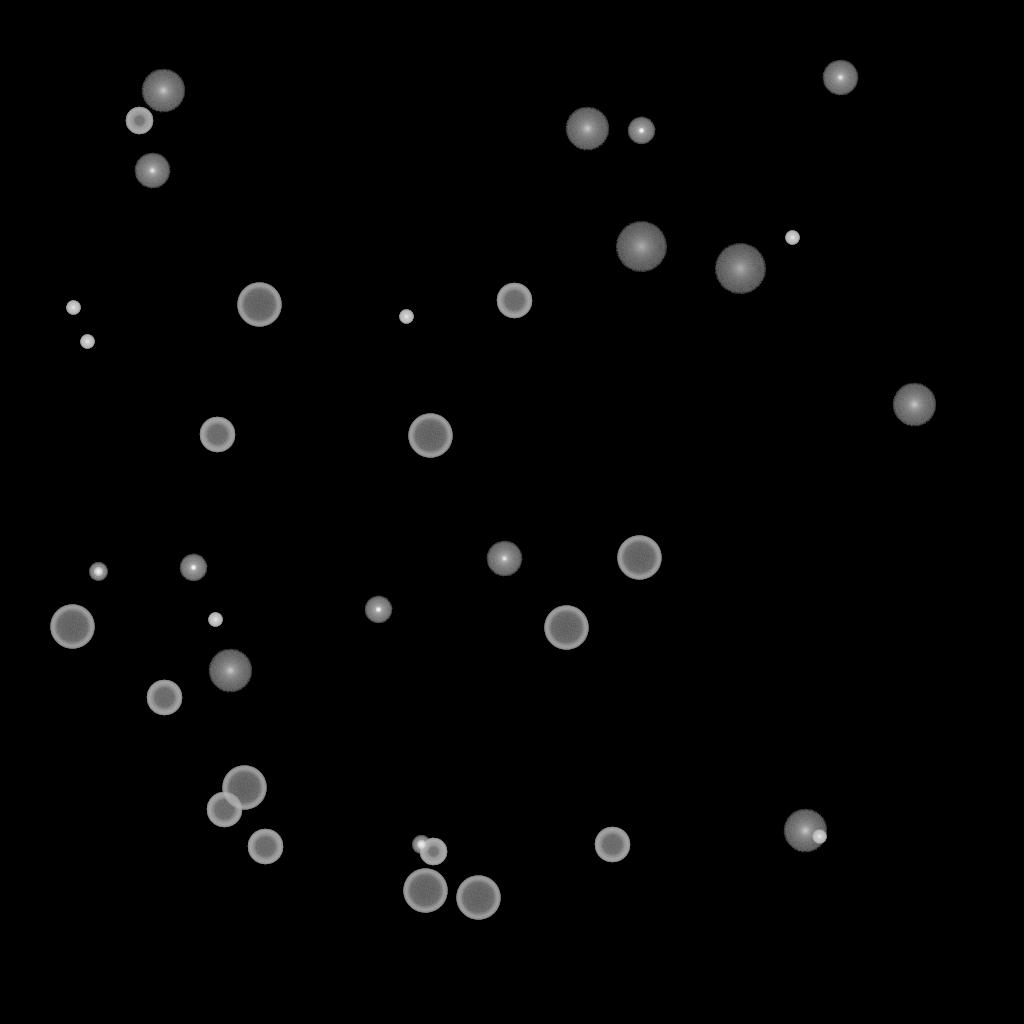depth:-10: (364, 596, 392, 624), (179, 554, 207, 582), (627, 117, 655, 145)
depth:-20: (89, 563, 107, 581), (412, 836, 430, 854)
depth:-30: (812, 830, 826, 844), (785, 231, 799, 245), (208, 613, 222, 627), (80, 335, 94, 349), (399, 310, 413, 324), (66, 301, 80, 315)
depth:-50: (125, 107, 153, 135), (419, 838, 447, 866)
depth:-60: (146, 680, 182, 716), (247, 829, 283, 865), (594, 827, 630, 863), (496, 283, 532, 319), (206, 792, 242, 828), (199, 417, 235, 453)
depth:-70: (456, 876, 500, 920), (222, 766, 266, 810), (544, 606, 588, 650), (50, 605, 94, 649), (237, 283, 281, 327), (617, 536, 661, 580), (408, 414, 452, 458), (403, 869, 447, 913)
depth:0: (134, 153, 170, 189), (822, 60, 858, 96), (486, 541, 522, 577)
depth:10: (783, 809, 827, 853), (208, 649, 252, 693), (565, 107, 609, 151), (141, 69, 185, 113), (892, 383, 936, 427)
depth:20: (714, 244, 766, 294), (615, 222, 667, 272)
